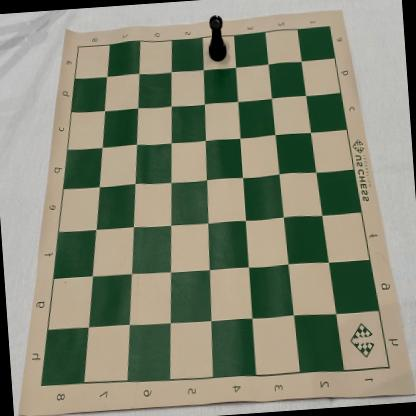black-rook: (206, 14, 228, 62)
